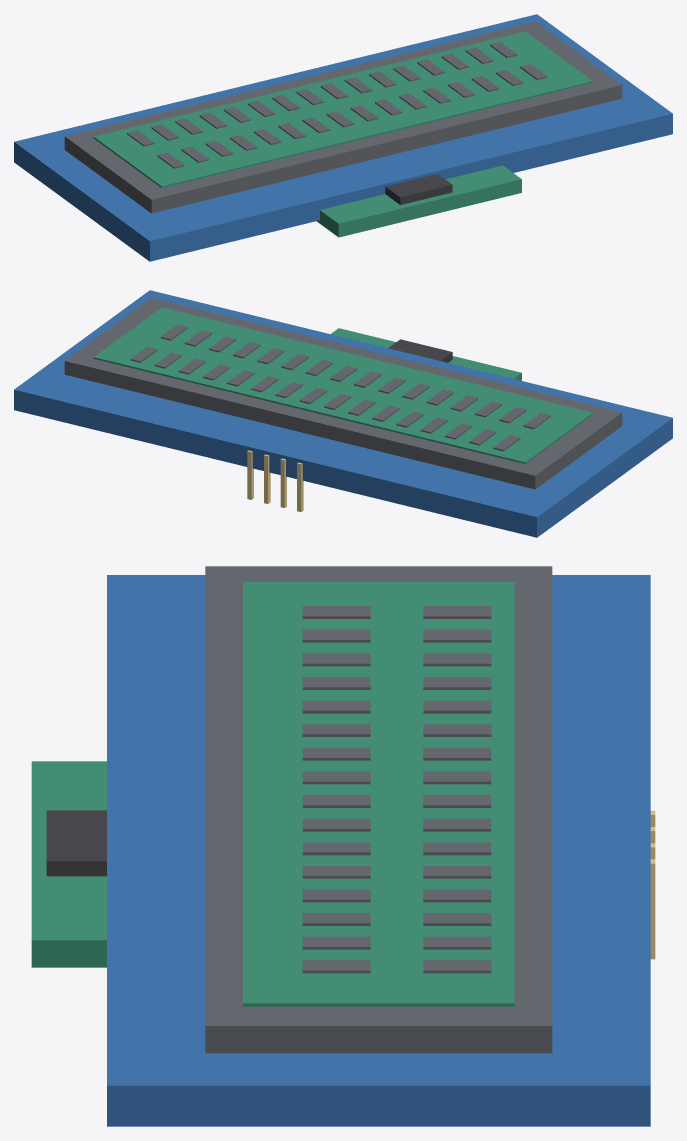
The model's file is lcd1602.glb.
3 views of the same model, one above another, from view 1: azimuth 30°, elevation 25°; view 2: azimuth 150°, elevation 25°; view 3: azimuth 270°, elevation 25° (orthographic). The views are drawn at different scales.
Visible parts, largest first — view 1: display-glass, lcd-pcb, pixel-matrix, backpack; view 2: display-glass, lcd-pcb, pixel-matrix, backpack, header; view 3: display-glass, lcd-pcb, pixel-matrix, backpack, header.
Boxes of the visible parts, left/top/right/bottom form: display-glass: left=64, top=21, right=622, bottom=213; lcd-pcb: left=14, top=14, right=672, bottom=261; pixel-matrix: left=127, top=42, right=547, bottom=168; backpack: left=316, top=165, right=521, bottom=237; display-glass: left=64, top=297, right=622, bottom=489; lcd-pcb: left=14, top=290, right=672, bottom=537; pixel-matrix: left=130, top=324, right=550, bottom=451; backpack: left=331, top=328, right=521, bottom=380; header: left=247, top=450, right=303, bottom=511; display-glass: left=205, top=566, right=552, bottom=1053; lcd-pcb: left=107, top=575, right=650, bottom=1126; pixel-matrix: left=302, top=606, right=491, bottom=973; backpack: left=31, top=761, right=106, bottom=967; header: left=650, top=810, right=655, bottom=959.
Size of the model in its own units: 0.08 by 0.0105 by 0.0413.
